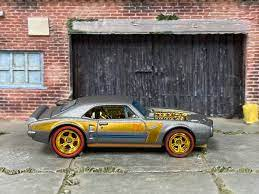Car: (27, 96, 213, 159)
